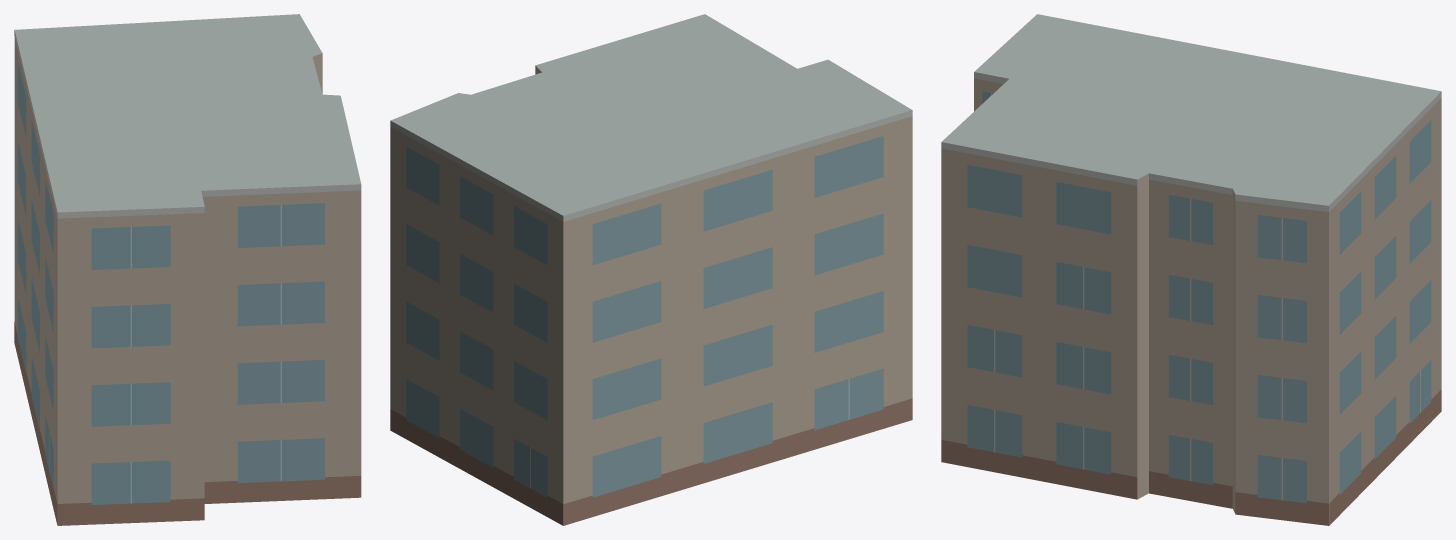
Rendered from survey-upis-32527277.glb.
The picture shows the model from 3 angles, left to right: view 1: azimuth 30°, elevation 25°; view 2: azimuth 150°, elevation 25°; view 3: azimuth 270°, elevation 25°; orthographic projection. The views are drawn at different scales.
Visible parts, largest first — view 1: survey-upis-32527277.tmp; view 2: survey-upis-32527277.tmp; view 3: survey-upis-32527277.tmp.
Boxes of the visible parts, x1,y1,x2,y2 form: survey-upis-32527277.tmp: (14, 14, 361, 525); survey-upis-32527277.tmp: (390, 14, 912, 525); survey-upis-32527277.tmp: (941, 14, 1441, 525).
Bounding box in the file's own units: 15.95 × 12.4 × 17.58.
